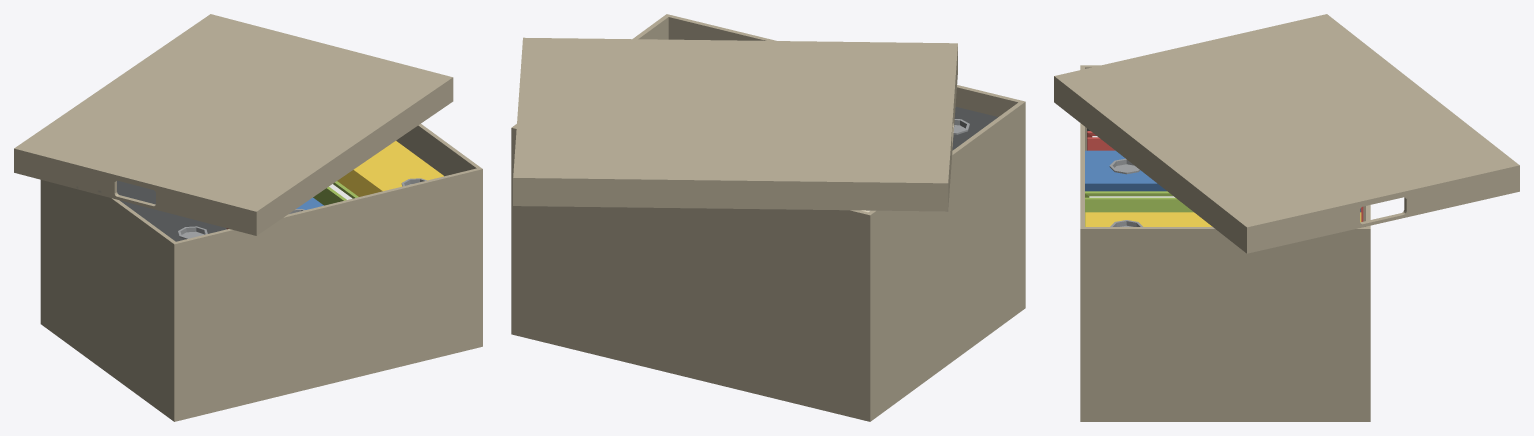
Rendered from Box_Filled_Bege.fbx.
3 views of the same model, side by side, from view 1: azimuth 30°, elevation 25°; view 2: azimuth 150°, elevation 25°; view 3: azimuth 270°, elevation 25° (orthographic). The views are drawn at different scales.
Parts seen in each view (by area): view 1: Box.001; view 2: Box.001; view 3: Box.001.
Part boxes in pixels (left/top/right/bottom): Box.001: left=14, top=14, right=482, bottom=421; Box.001: left=511, top=14, right=1025, bottom=421; Box.001: left=1054, top=14, right=1519, bottom=421.
Bounding box in the file's own units: 52.15 × 25 × 48.09.
